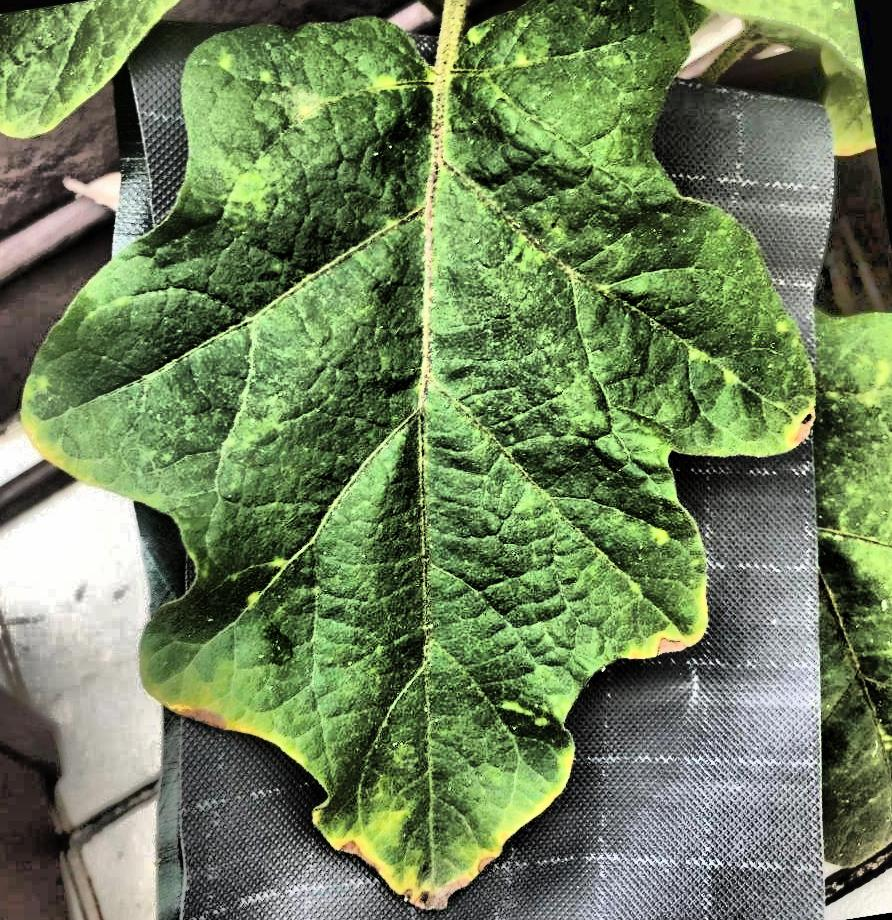Non-critical Stress: (1, 0, 892, 920)
